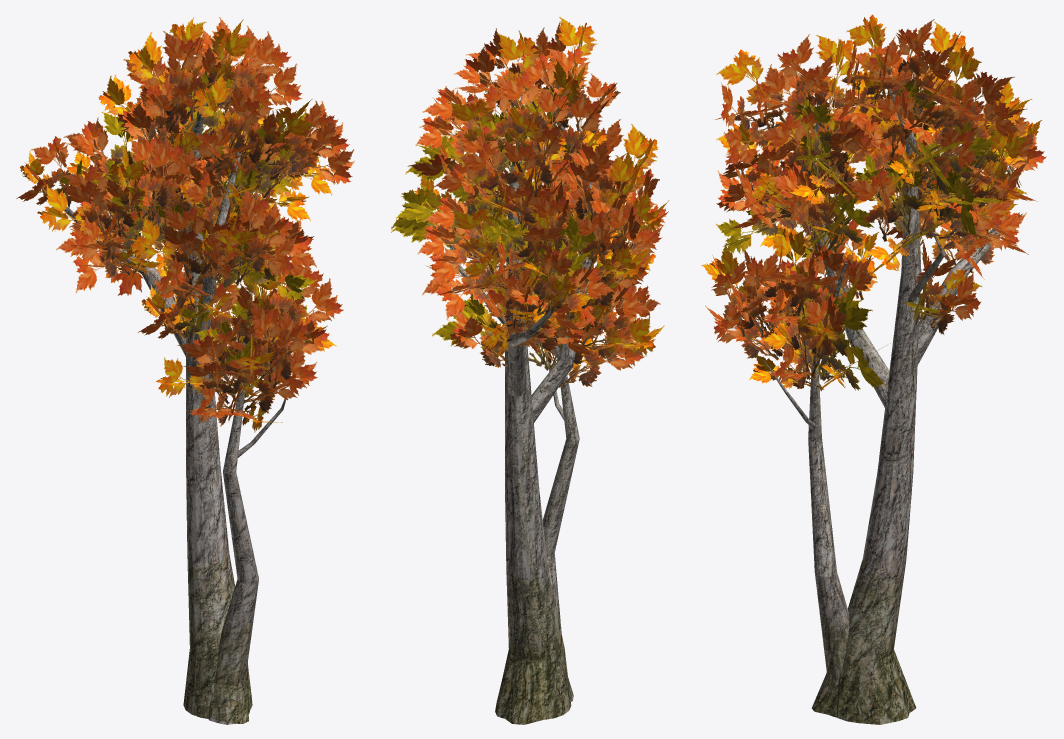
The model's file is Maple_001.glb.
3 renders of one model, left to right at view 1: azimuth 30°, elevation 25°; view 2: azimuth 150°, elevation 25°; view 3: azimuth 270°, elevation 25°, orthographic. The views are drawn at different scales.
Parts seen in each view (by area): view 1: Plane.091, Cylinder.004; view 2: Plane.091, Cylinder.004; view 3: Plane.091, Cylinder.004.
Boxes of the visible parts, bbox=[...] form: Plane.091: bbox=[16, 17, 354, 432]; Cylinder.004: bbox=[64, 102, 286, 724]; Plane.091: bbox=[391, 17, 668, 387]; Cylinder.004: bbox=[427, 110, 597, 724]; Plane.091: bbox=[701, 14, 1046, 391]; Cylinder.004: bbox=[764, 88, 1013, 724].
Bounding box in the file's own units: 0.5666 × 1.4 × 0.6336.
Materials: 3 (3 with a texture image).
